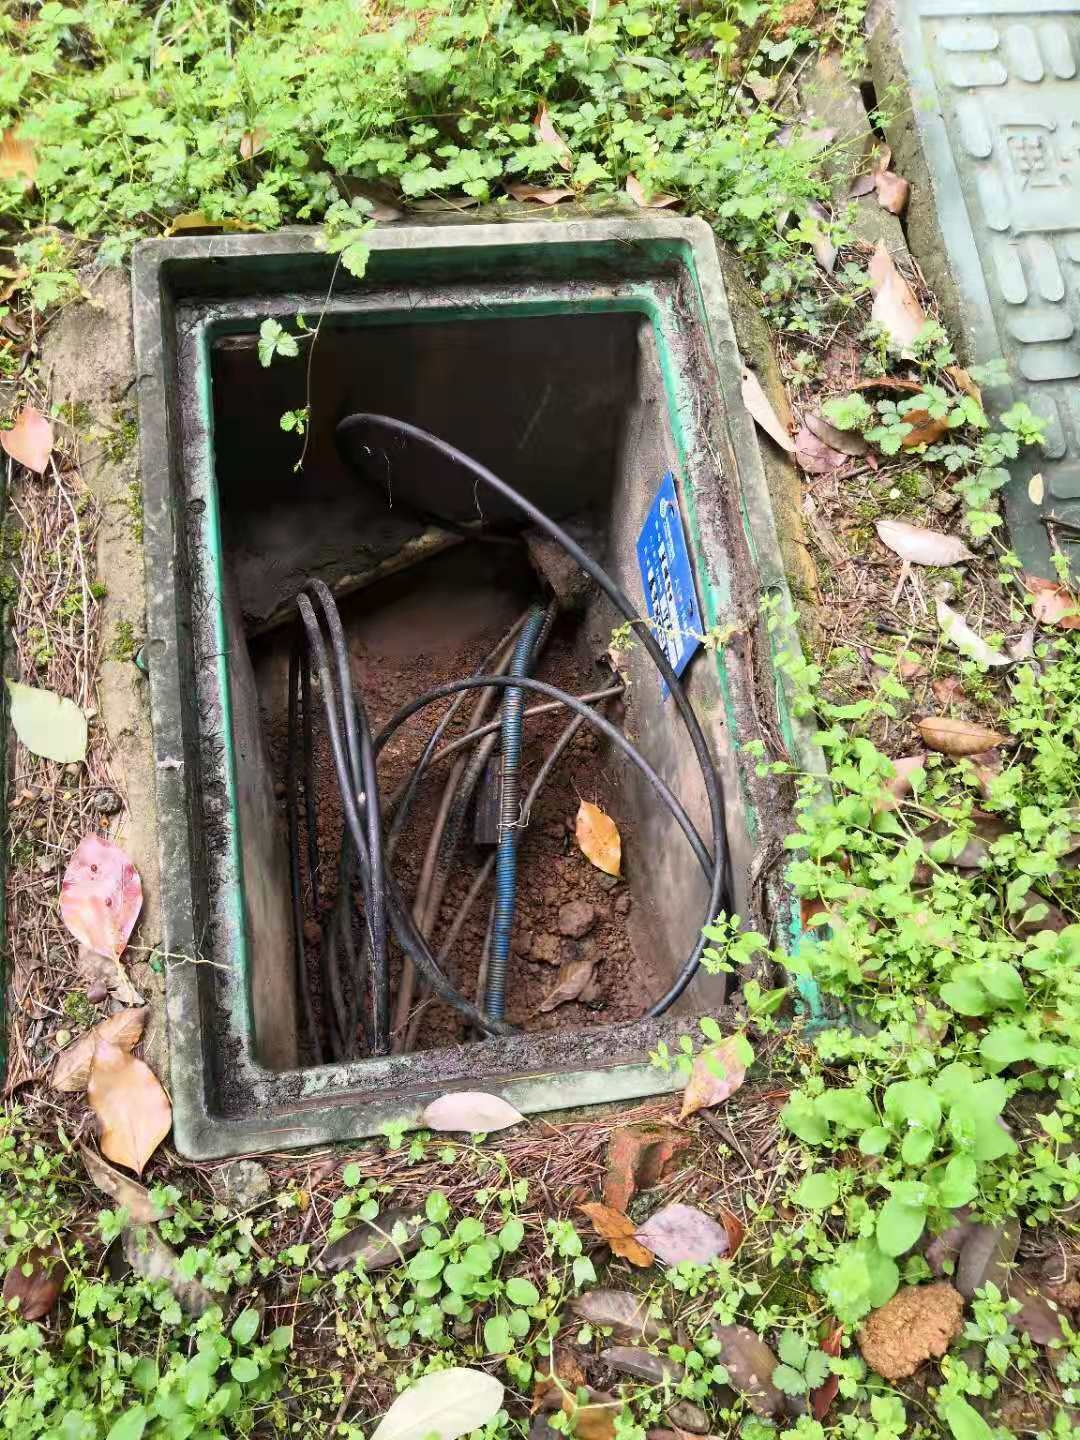lose: (132, 215, 854, 1155)
